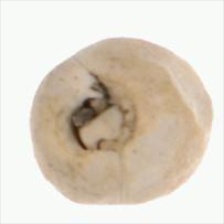L3: (69, 77, 140, 161)
L4: (30, 37, 213, 205)
